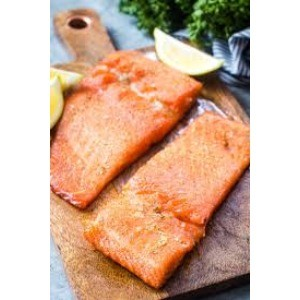salmon_brain food: (57, 74, 228, 214)
